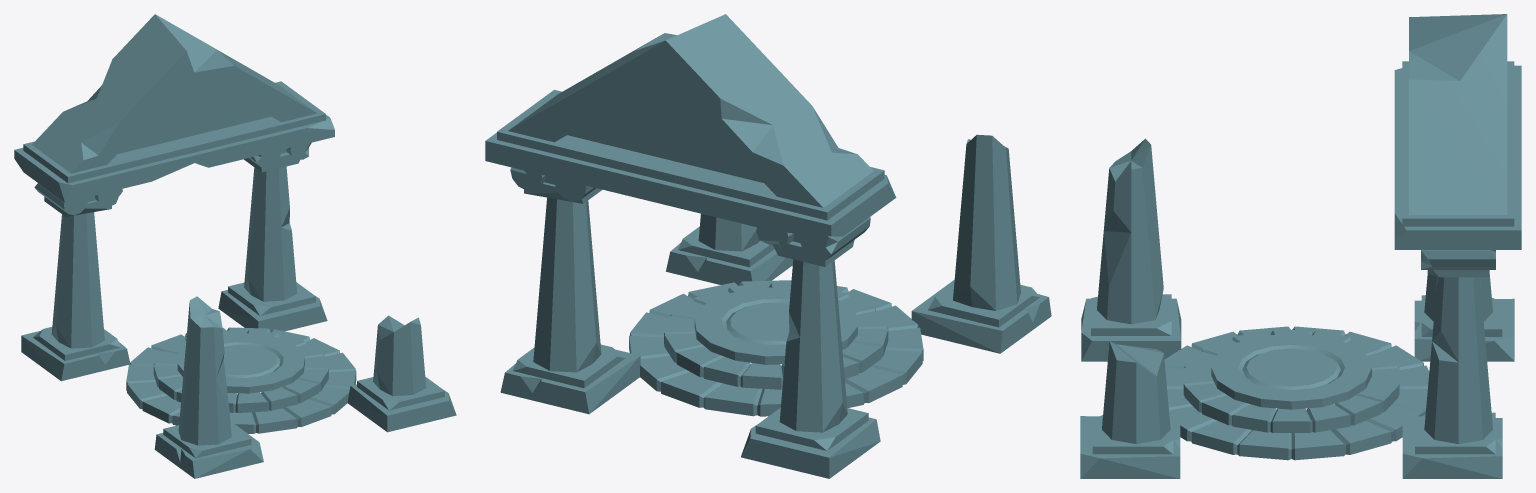
Rendered from Ancient_Ruins.fbx.
3 renders of one model, left to right at view 1: azimuth 30°, elevation 25°; view 2: azimuth 150°, elevation 25°; view 3: azimuth 270°, elevation 25°, orthographic. The views are drawn at different scales.
Parts seen in each view (by area): view 1: Ancient_Ruin; view 2: Ancient_Ruin; view 3: Ancient_Ruin.
Part boxes in pixels (x1,y1,x2,y2): Ancient_Ruin: [14, 14, 456, 478]; Ancient_Ruin: [485, 14, 1051, 478]; Ancient_Ruin: [1080, 14, 1521, 478].
Size of the model in its own units: 284 by 310 by 322.
